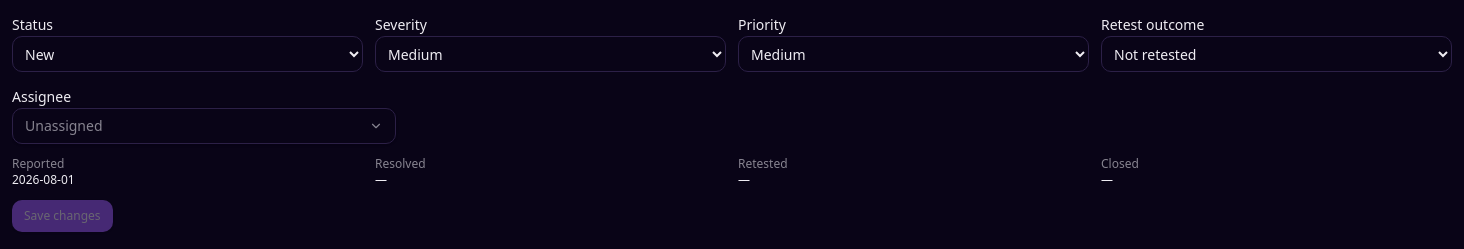
it: the full status progression saves and reads back › does nothing until something changes
The width and height of the screenshot is (1464, 249).
Expected: the button "Save changes" is disabled, [12,200,112,232]
Step 1. Select "Low" in the dropdown labelled "Priority" → (914, 54), box [738,36,1089,72]
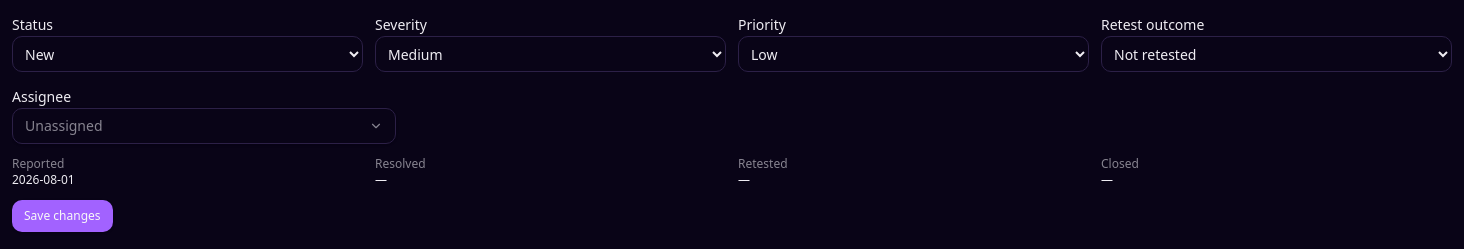
Expected: the button "Save changes" is enabled, [12,200,112,232]
